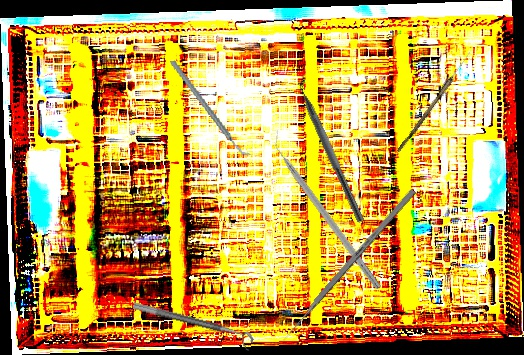Chopper: (265, 128, 390, 291), (289, 68, 375, 224), (169, 47, 252, 170)
Fixation Ring: (129, 301, 256, 352)
Pusher: (278, 188, 417, 345)
Surgical Spoon: (396, 49, 473, 155)
